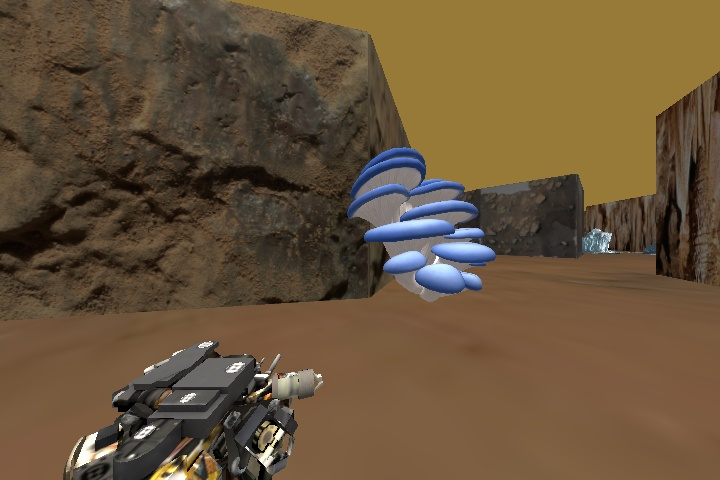minerals: (580, 230, 612, 255)
mushroom: (348, 144, 499, 301)
